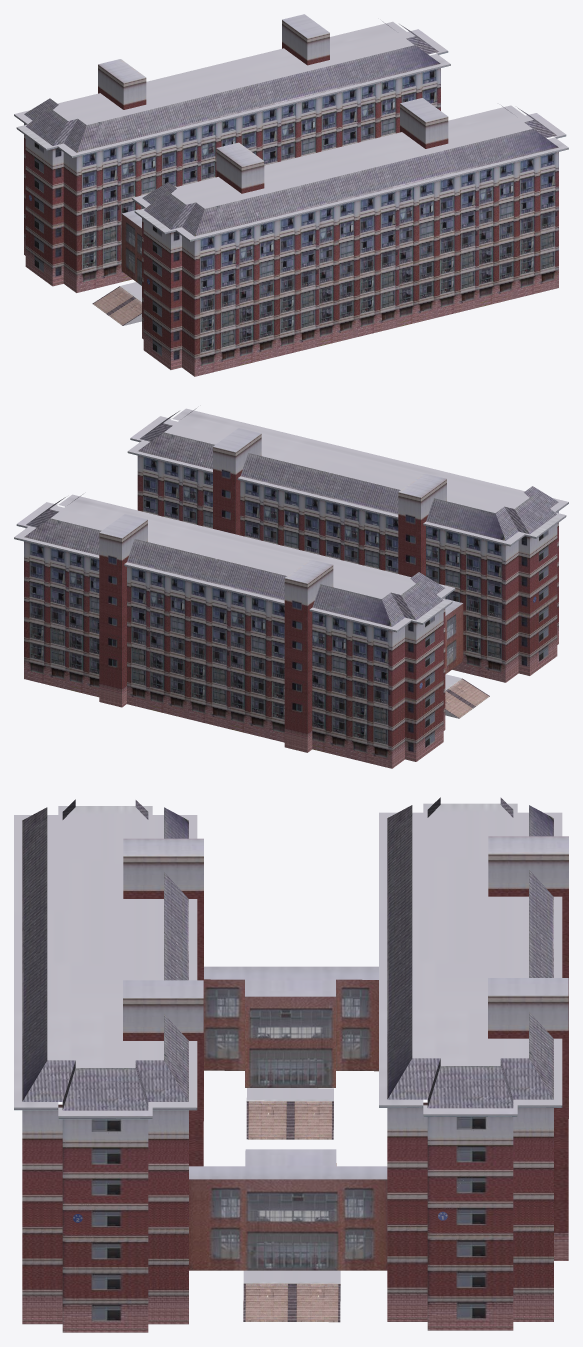
The picture shows the model from 3 angles, top to bottom: view 1: azimuth 30°, elevation 25°; view 2: azimuth 150°, elevation 25°; view 3: azimuth 270°, elevation 25°; orthographic projection. The views are drawn at different scales.
Parts seen in each view (by area): view 1: Mesh01#24, Mesh07#12, Mesh08#10, Mesh02#26, Mesh03#20; view 2: Mesh01#24, Mesh02#26, Mesh03#20, Mesh08#10, Mesh07#12; view 3: Mesh01#24, Mesh04#16, Mesh03#20, Mesh08#10, Mesh07#12, Mesh02#26, Mesh05#15.
Boxes of the visible parts, left/top/right/bottom form: Mesh01#24: left=14, top=21, right=568, bottom=376; Mesh07#12: left=216, top=142, right=264, bottom=193; Mesh08#10: left=400, top=98, right=448, bottom=148; Mesh02#26: left=98, top=59, right=146, bottom=109; Mesh03#20: left=282, top=14, right=329, bottom=65; Mesh01#24: left=14, top=408, right=568, bottom=768; Mesh02#26: left=284, top=559, right=333, bottom=752; Mesh03#20: left=99, top=514, right=147, bottom=707; Mesh08#10: left=213, top=428, right=261, bottom=535; Mesh07#12: left=398, top=473, right=446, bottom=577; Mesh01#24: left=14, top=797, right=562, bottom=1332; Mesh04#16: left=189, top=1149, right=387, bottom=1322; Mesh03#20: left=488, top=978, right=568, bottom=1260; Mesh08#10: left=123, top=980, right=203, bottom=1166; Mesh07#12: left=123, top=838, right=203, bottom=1120; Mesh02#26: left=488, top=836, right=568, bottom=1118; Mesh05#15: left=246, top=1088, right=333, bottom=1139.
Bounding box in the file's own units: 0.0733 × 0.029 × 0.055.
4 materials, 4 textured.
